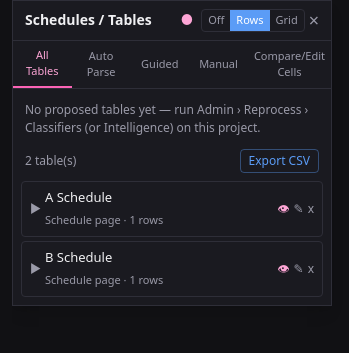
Test: W1 retained ParsedRegion deletion › retains the row and exact cache on failure, surfaces the error, and releases authority for retry
Click the button titled "Delete table" in the row of "A Schedule". click: [311, 208]
box: [308,200,314,218]
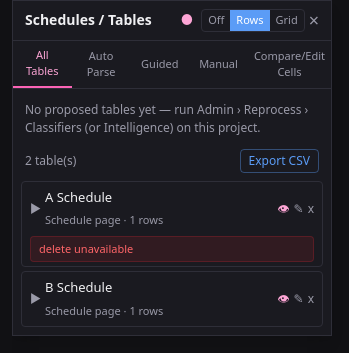
Check: the text "A Schedule" is shown, box [45,188,112,206]
Check: the text "delete unavailable" is shown, box [30,236,314,262]
Click the button titled "Delete table" in the row of "A Schedule". click: [311, 208]
box: [308,200,314,218]
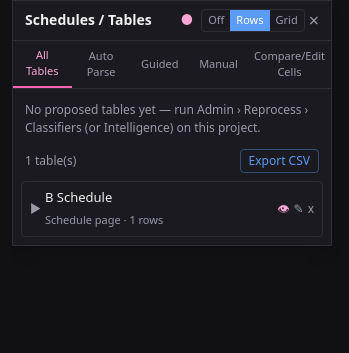
Check: the text "delete unavailable" is gone
Check: the text "A Schedule" is gone
